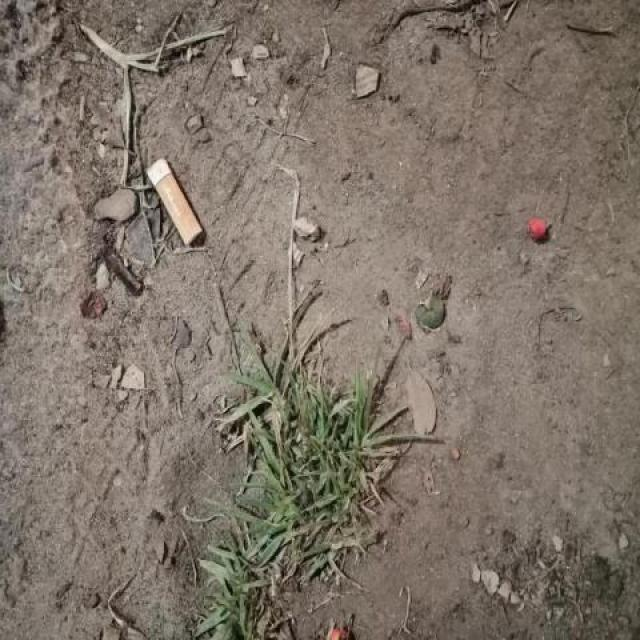non-organic waste: (138, 156, 210, 249)
